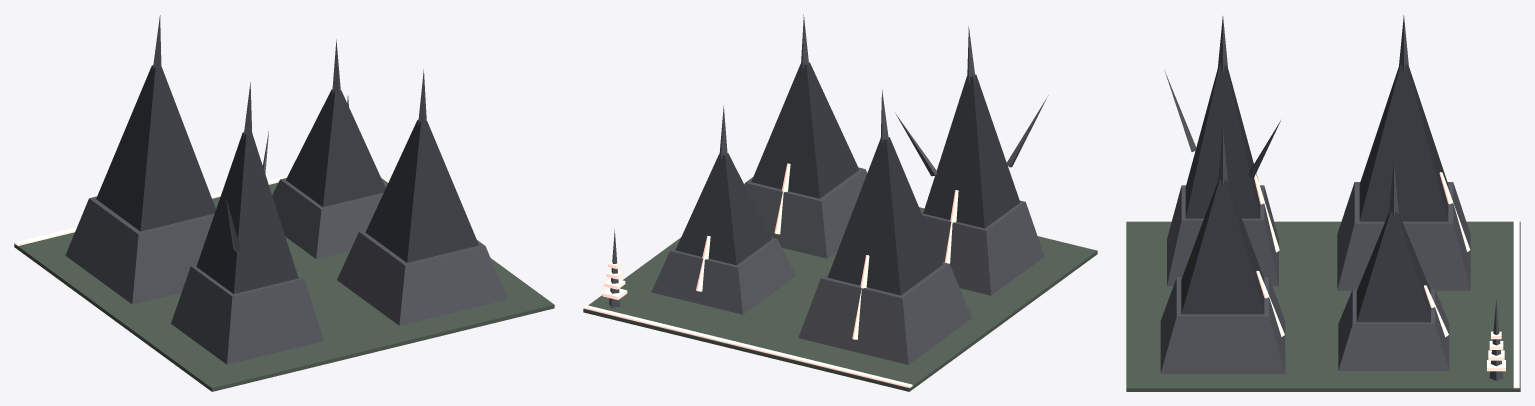
File: zone_low_4_t4.glb
3 renders of one model, left to right at view 1: azimuth 30°, elevation 25°; view 2: azimuth 150°, elevation 25°; view 3: azimuth 270°, elevation 25°, orthographic. The views are drawn at different scales.
Visible parts, largest first — view 1: zone_low_4_t4, detail; view 2: zone_low_4_t4, detail; view 3: zone_low_4_t4, detail.
Boxes of the visible parts, x1=… form: zone_low_4_t4: x1=14, y1=15, x2=554, y2=391; detail: x1=15, y1=95, x2=348, y2=252; zone_low_4_t4: x1=583, y1=14, x2=1097, y2=391; detail: x1=583, y1=95, x2=1048, y2=387; zone_low_4_t4: x1=1126, y1=15, x2=1520, y2=391; detail: x1=1164, y1=70, x2=1519, y2=388.
Size of the model in its own units: 19.6 by 13.93 by 19.6.
